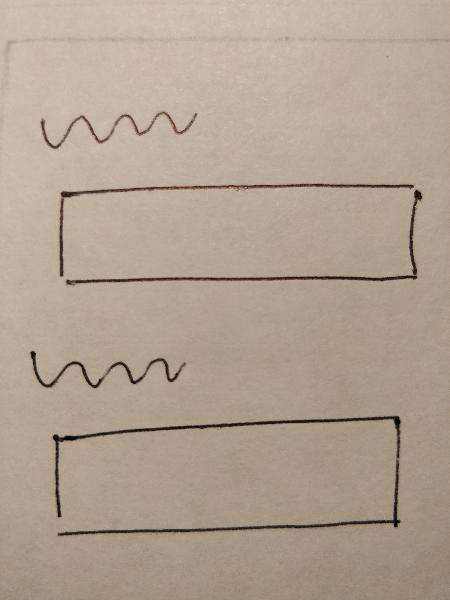text: (31, 91, 210, 162), (18, 337, 194, 400)
text_input: (37, 407, 422, 545), (45, 172, 434, 295)
